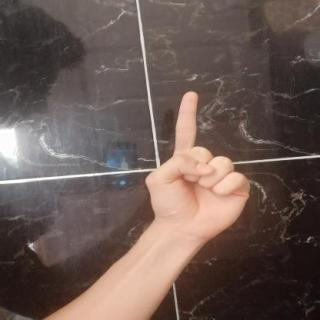BAA: (134, 82, 260, 243)
